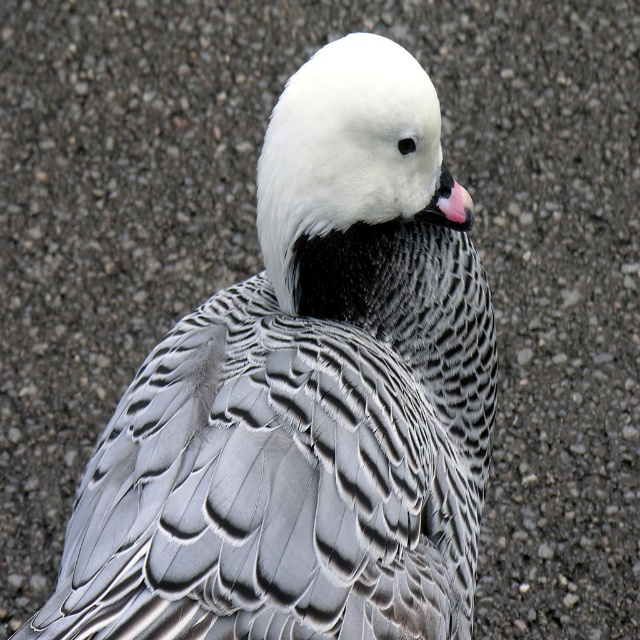Goose: (12, 48, 473, 640)
